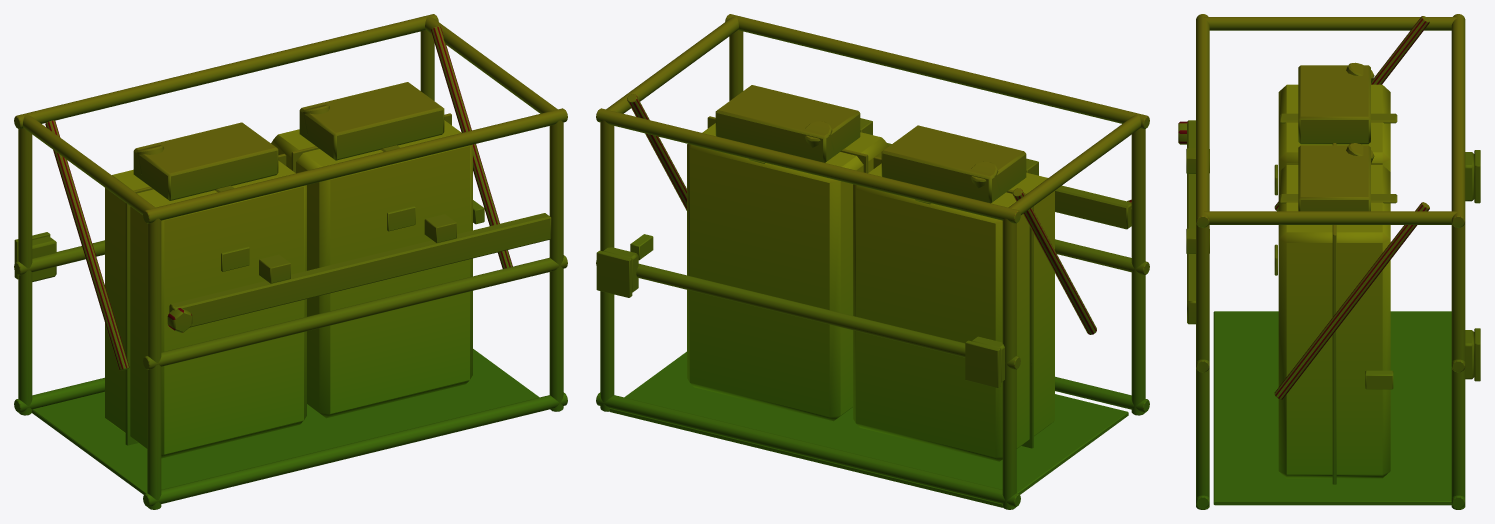
File: RCLModule_scout_tank_gunmetal_chassis_fueldrums.fbx
3 views of the same model, side by side, from view 1: azimuth 30°, elevation 25°; view 2: azimuth 150°, elevation 25°; view 3: azimuth 270°, elevation 25° (orthographic).
Parts seen in each view (by area): view 1: RCLModule_scout_tank_gunmetal_chassis_fueldrums_Batch_RCLMod (×3); view 2: RCLModule_scout_tank_gunmetal_chassis_fueldrums_Batch_RCLMod (×2); view 3: RCLModule_scout_tank_gunmetal_chassis_fueldrums_Batch_RCLMod (×3).
Boxes of the visible parts, left/top/right/bottom form: RCLModule_scout_tank_gunmetal_chassis_fueldrums_Batch_RCLMod (×3): left=14, top=14, right=567, bottom=509; RCLModule_scout_tank_gunmetal_chassis_fueldrums_Batch_RCLMod (×2): left=596, top=14, right=1149, bottom=509; RCLModule_scout_tank_gunmetal_chassis_fueldrums_Batch_RCLMod (×3): left=1178, top=14, right=1480, bottom=509.
Bounding box in the file's own units: 60.3 × 41.56 × 37.9.
